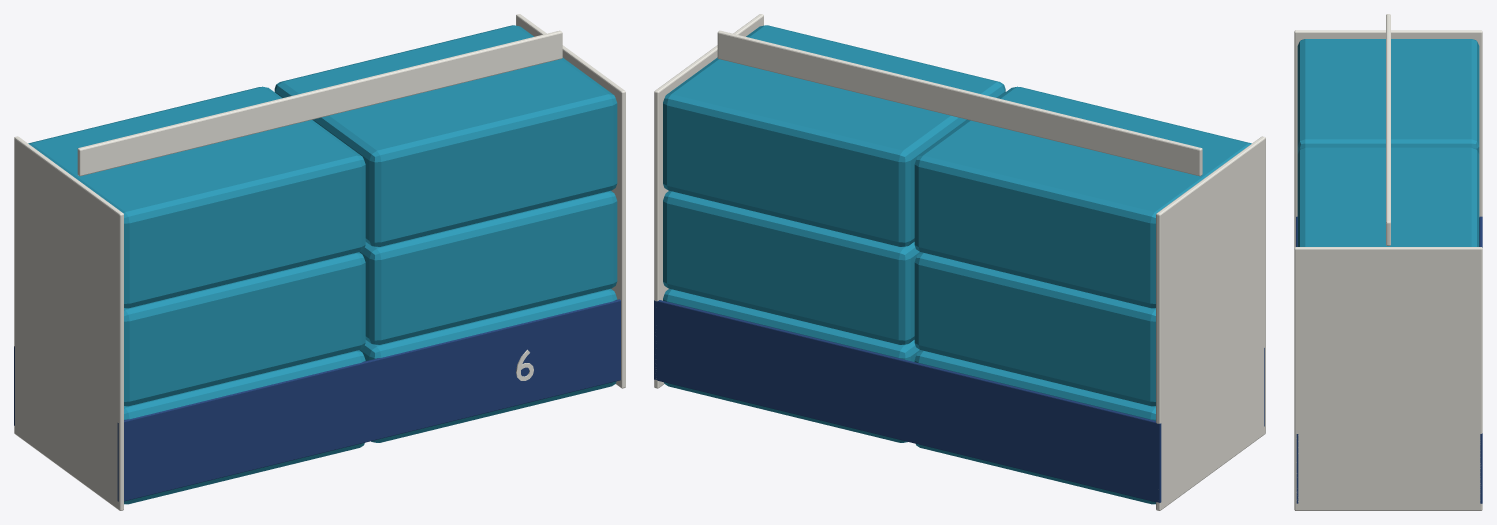
The model's file is tissue-pack-v1.glb.
3 renders of one model, left to right at view 1: azimuth 30°, elevation 25°; view 2: azimuth 150°, elevation 25°; view 3: azimuth 270°, elevation 25°, orthographic. The views are drawn at different scales.
Visible parts, largest first — view 1: packs, front-label, left-seal, top-flap, right-seal; view 2: packs, back-label, left-seal, top-flap, right-seal; view 3: right-seal, packs, left-seal, top-flap, back-label, front-label.
Part boxes in pixels (left/top/right/bottom): packs: left=28, top=25, right=617, bottom=504; front-label: left=117, top=299, right=620, bottom=501; left-seal: left=14, top=136, right=123, bottom=510; top-flap: left=77, top=30, right=562, bottom=176; right-seal: left=516, top=14, right=625, bottom=388; packs: left=663, top=25, right=1251, bottom=504; back-label: left=654, top=300, right=1161, bottom=502; left-seal: left=1156, top=136, right=1265, bottom=510; top-flap: left=717, top=30, right=1202, bottom=176; right-seal: left=654, top=14, right=763, bottom=388; right-seal: left=1294, top=247, right=1482, bottom=510; packs: left=1297, top=39, right=1479, bottom=246; left-seal: left=1294, top=30, right=1482, bottom=247; top-flap: left=1386, top=14, right=1390, bottom=245; back-label: left=1479, top=216, right=1482, bottom=503; front-label: left=1296, top=216, right=1298, bottom=503.
Size of the model in its own units: 0.33 by 0.2 by 0.12.
